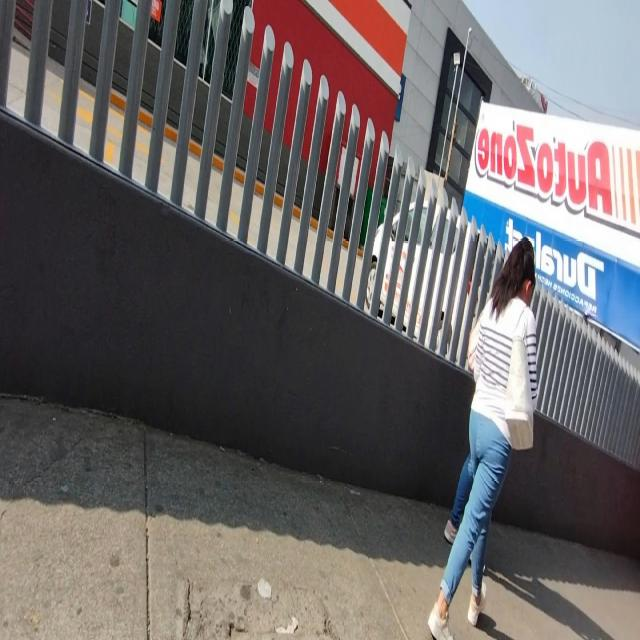adult: (430, 237, 538, 640)
